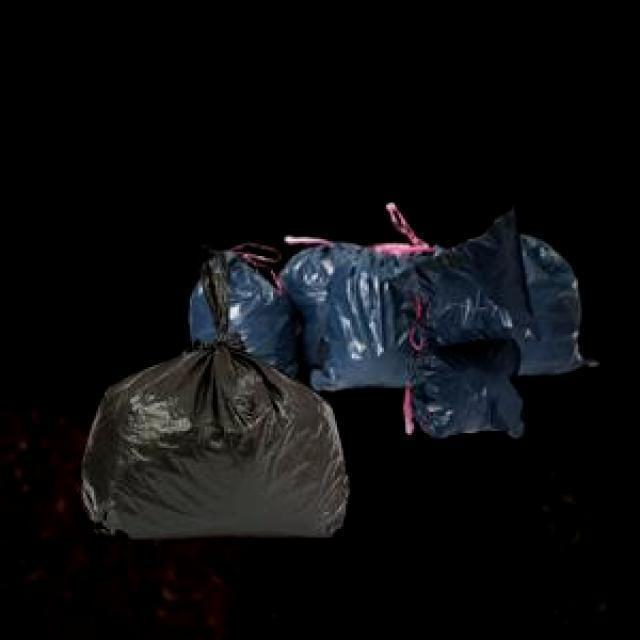Trashbag: (75, 362, 352, 548), (407, 205, 533, 350), (178, 251, 324, 371), (312, 250, 426, 392), (414, 335, 522, 445)
